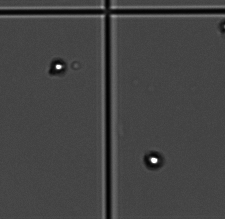Living Cell: (145, 150, 163, 169), (50, 58, 65, 74)
